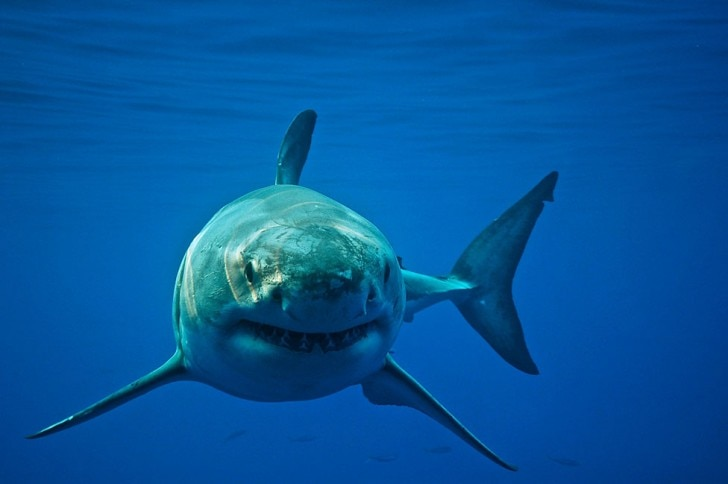Shark: (34, 110, 559, 472)
